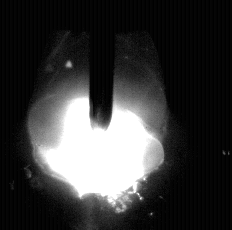arame: (90, 0, 115, 130)
poca: (31, 0, 167, 230)
